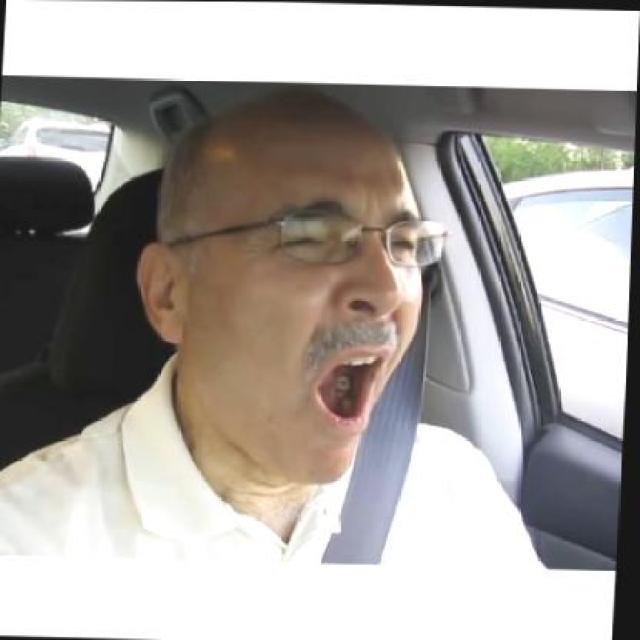inattentif: (127, 78, 436, 490)
